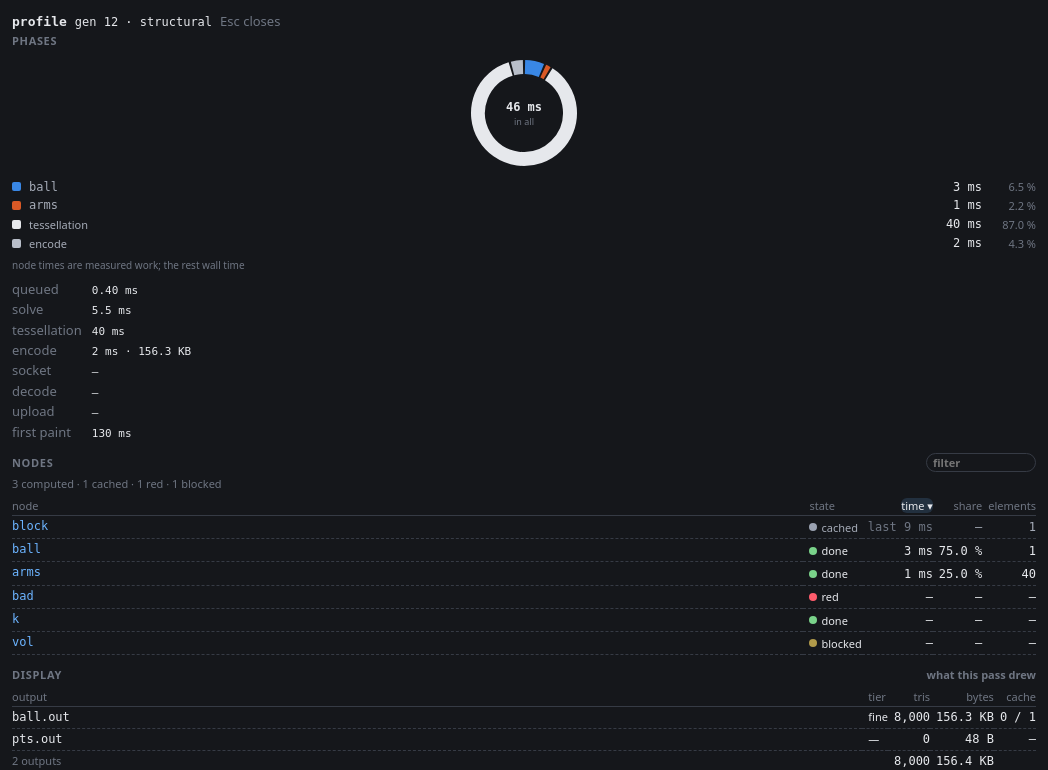
Test: the profiler tab › renders the headline, the ring, the legend, the phases and every node; a cached row is marked with its last compute
Expected: the text with test id "profile-title" reads "gen 12 · structural", left=75, top=15, right=212, bottom=29
Expected: the text with test id "profile-first-paint" reads "130 ms", left=92, top=426, right=132, bottom=440
Step 1. Click the button with test id "profile-count-red" → (150,484), box left=137, top=476, right=163, bottom=492
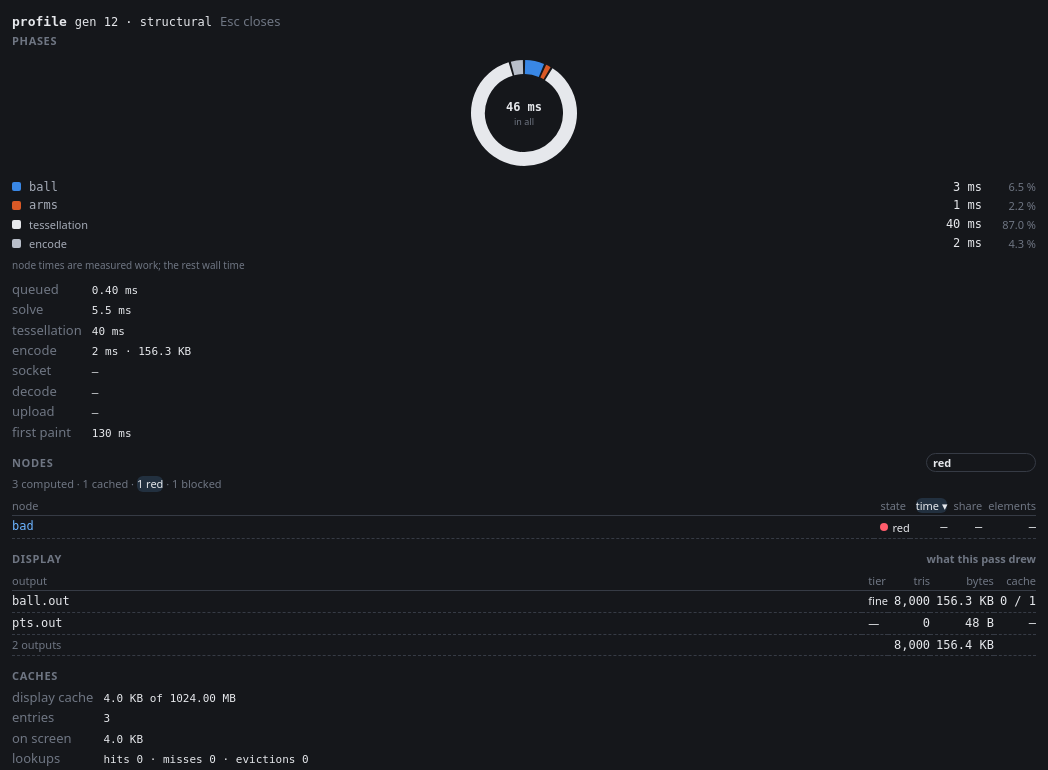
Result: the search field with test id "profile-filter" holds "red" at left=926, top=453, right=1036, bottom=472
Step 2. Click the button with test id "profile-count-red" → (150,484), box left=137, top=476, right=163, bottom=492
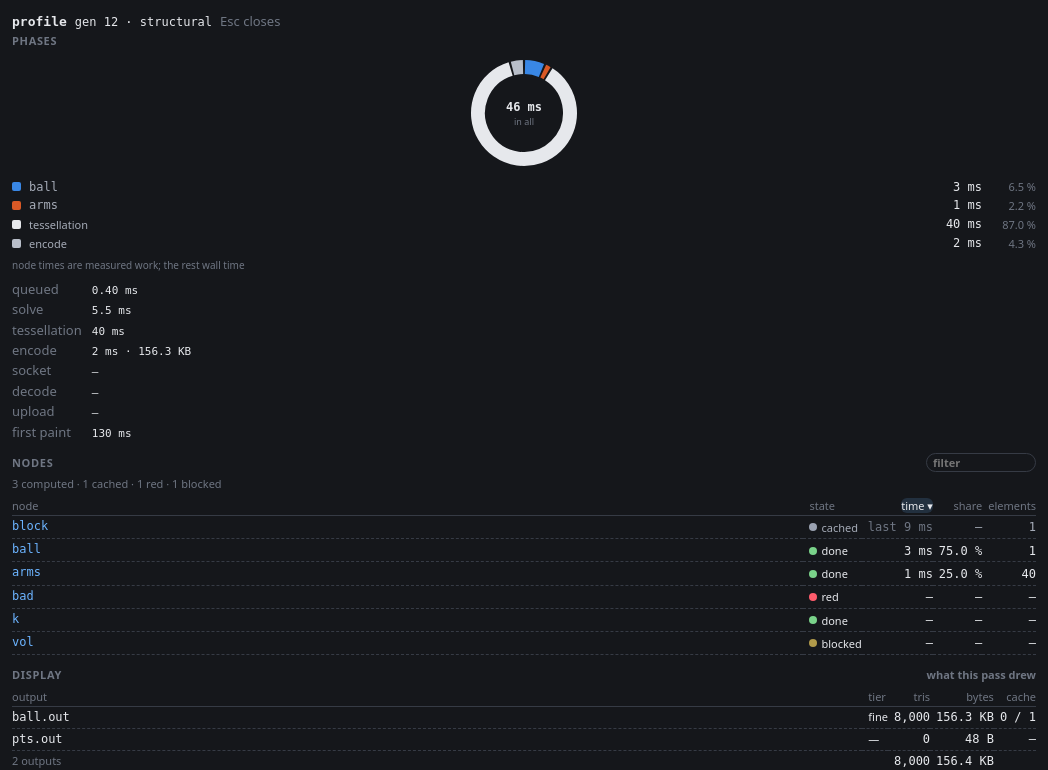
Result: the search field with test id "profile-filter" is empty at left=926, top=453, right=1036, bottom=472
Result: the row with test id "profile-node-row" shows "last 9 ms" at left=12, top=516, right=1036, bottom=539
Result: the row with test id "profile-node-row" shows "75.0 %" at left=939, top=544, right=982, bottom=558
